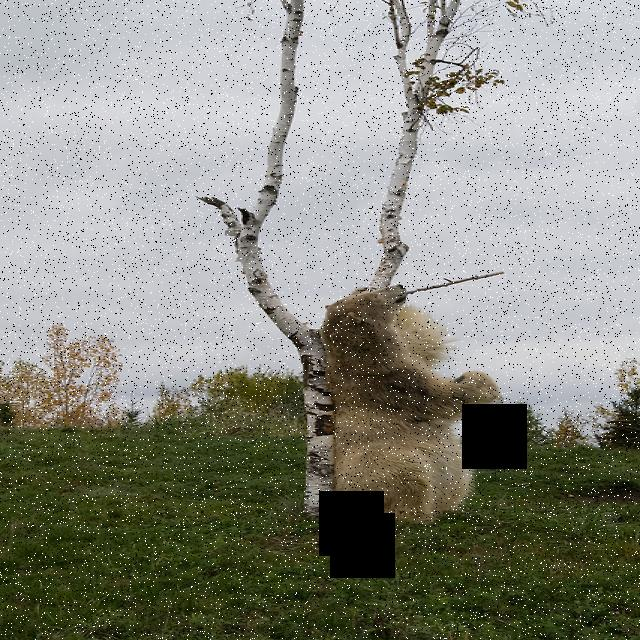Bear: (318, 278, 502, 529)
